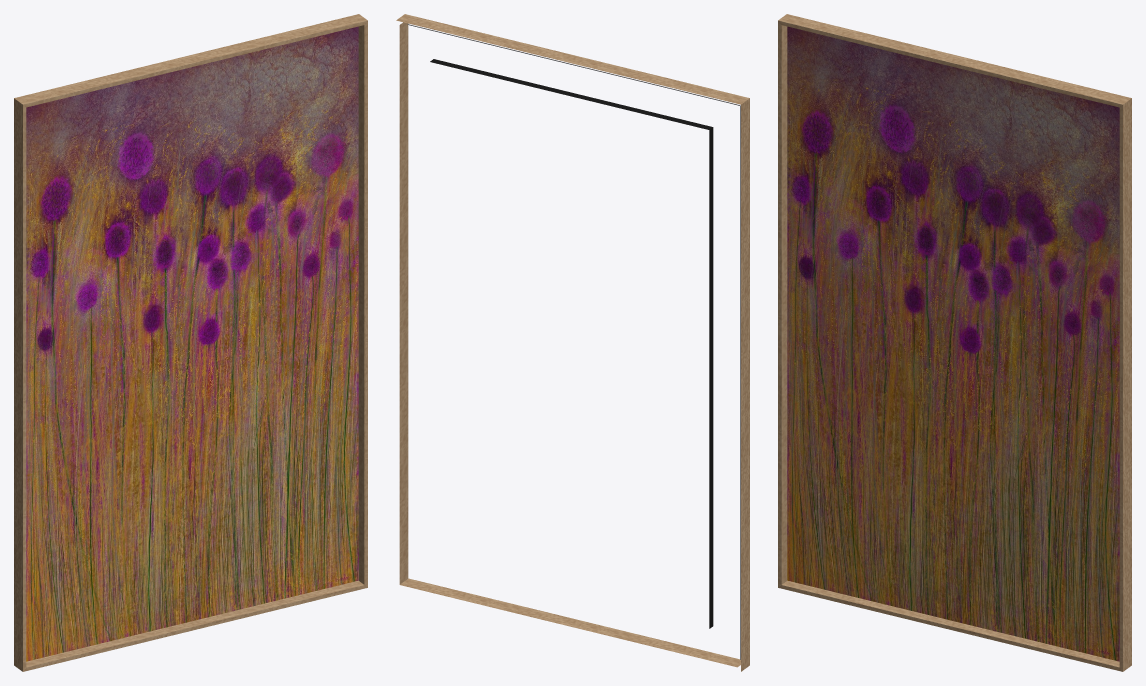
The model's file is os034_grand_caisse-chene.glb.
3 views of the same model, side by side, from view 1: azimuth 30°, elevation 25°; view 2: azimuth 150°, elevation 25°; view 3: azimuth 330°, elevation 25° (orthographic).
Visible parts, largest first — view 1: os034_grand_caisse-chene; view 2: os034_grand_caisse-chene; view 3: os034_grand_caisse-chene.
Boxes of the visible parts, x1,y1,x2,y2 form: os034_grand_caisse-chene: [14, 14, 367, 671]; os034_grand_caisse-chene: [396, 14, 749, 671]; os034_grand_caisse-chene: [778, 14, 1131, 671].
Size of the model in its own units: 0.7817 by 1.23 by 0.035.
4 materials, 2 textured.
